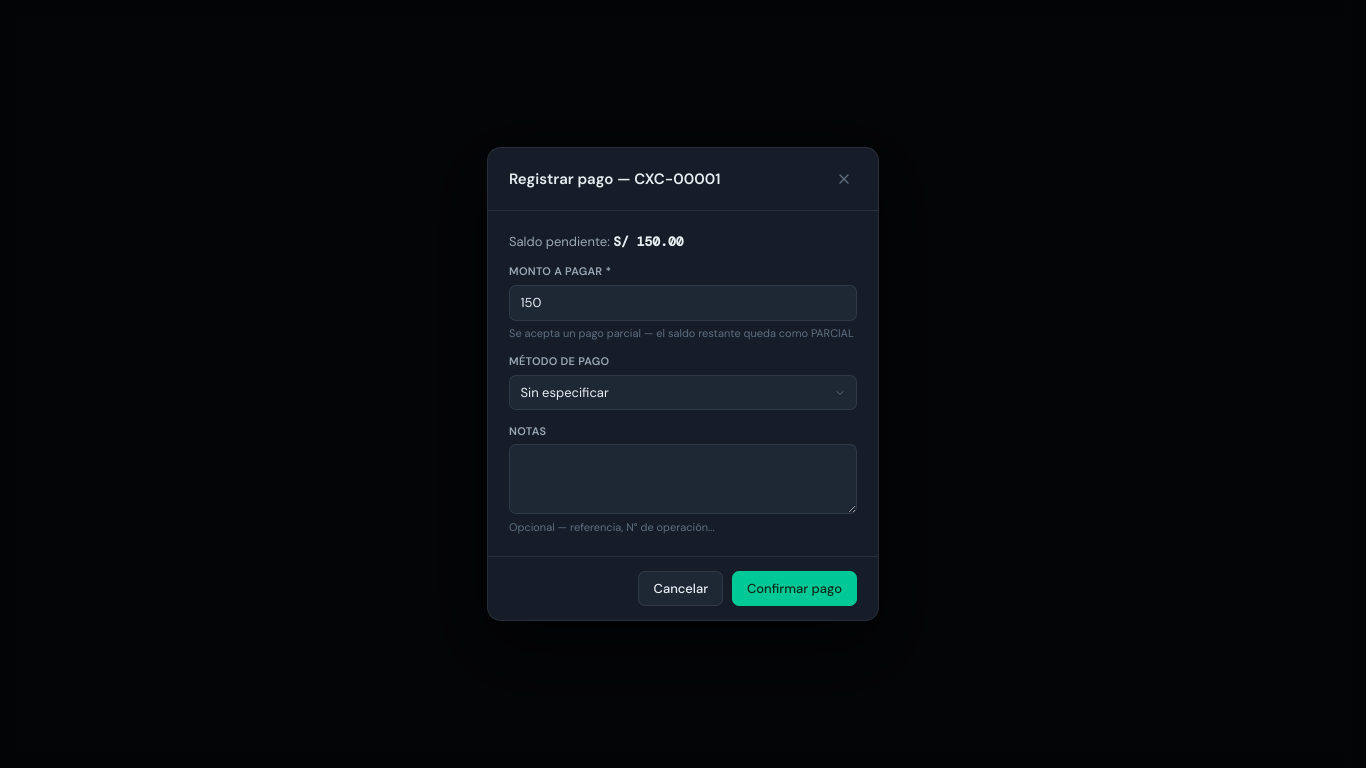
Test: ModalPago (Cuentas por Cobrar) › un monto mayor al saldo muestra el Alert de error y deshabilita Confirmar
Replace the text in the number field with "200" at (683,303), box [509, 285, 857, 320]
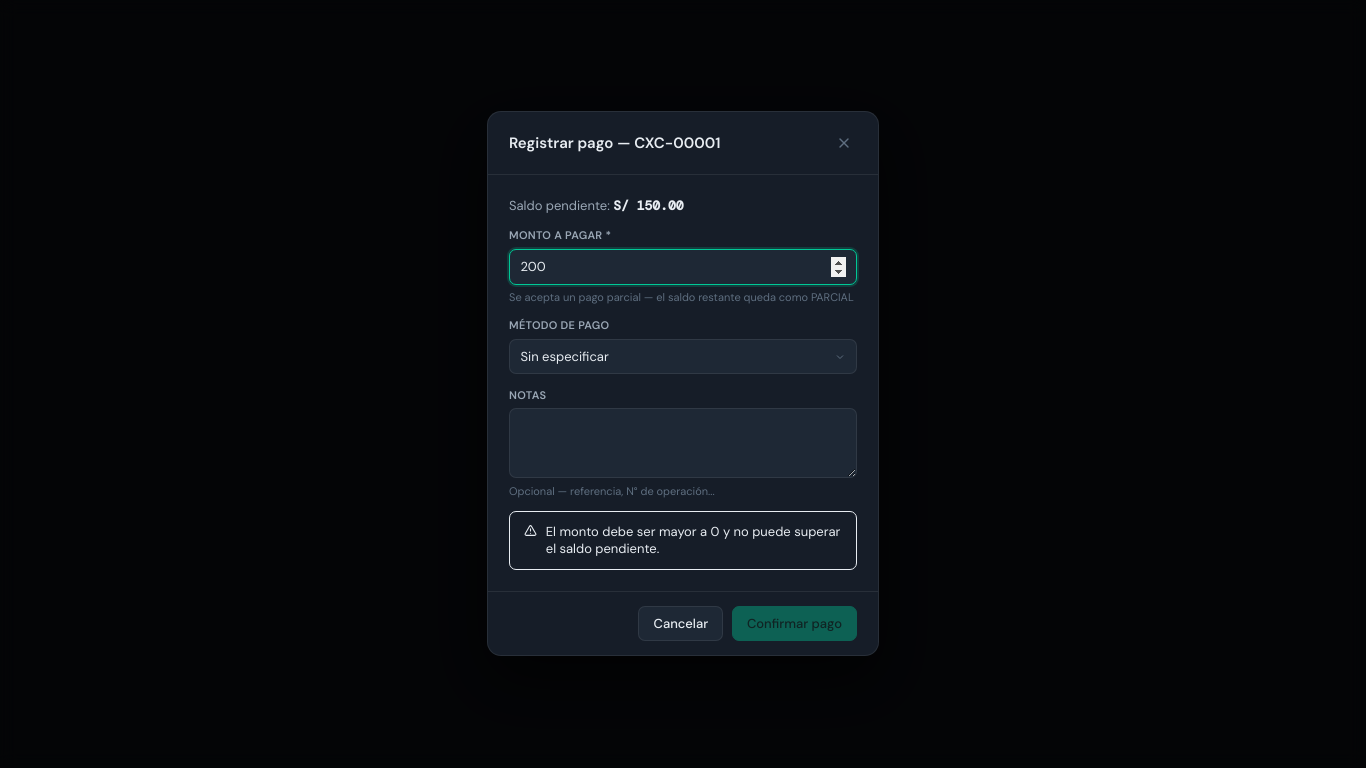
Check: the button "Confirmar pago" is disabled, box [732, 606, 857, 642]
Check: the text "no puede superar el saldo pendiente" is shown, box [546, 523, 840, 558]
